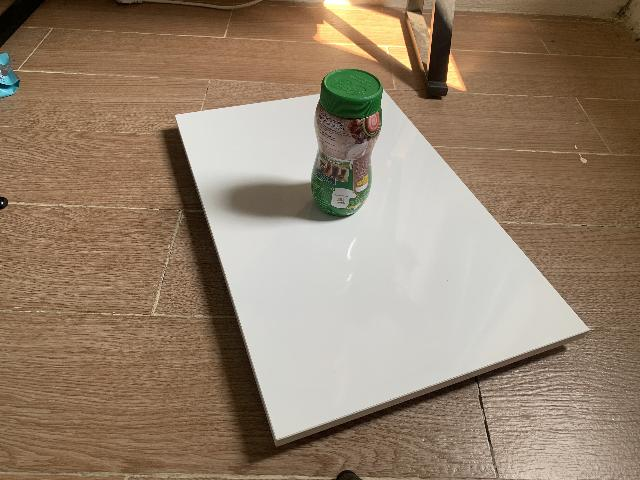milo: (310, 69, 383, 218)
